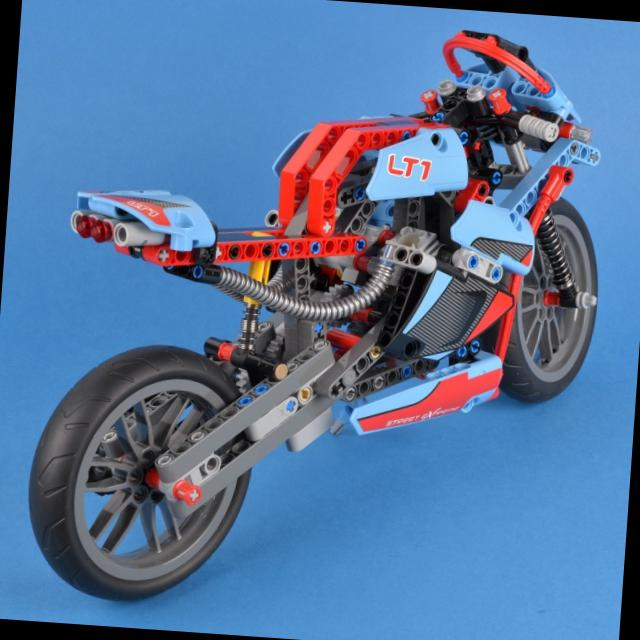Toy: (21, 1, 615, 632)
